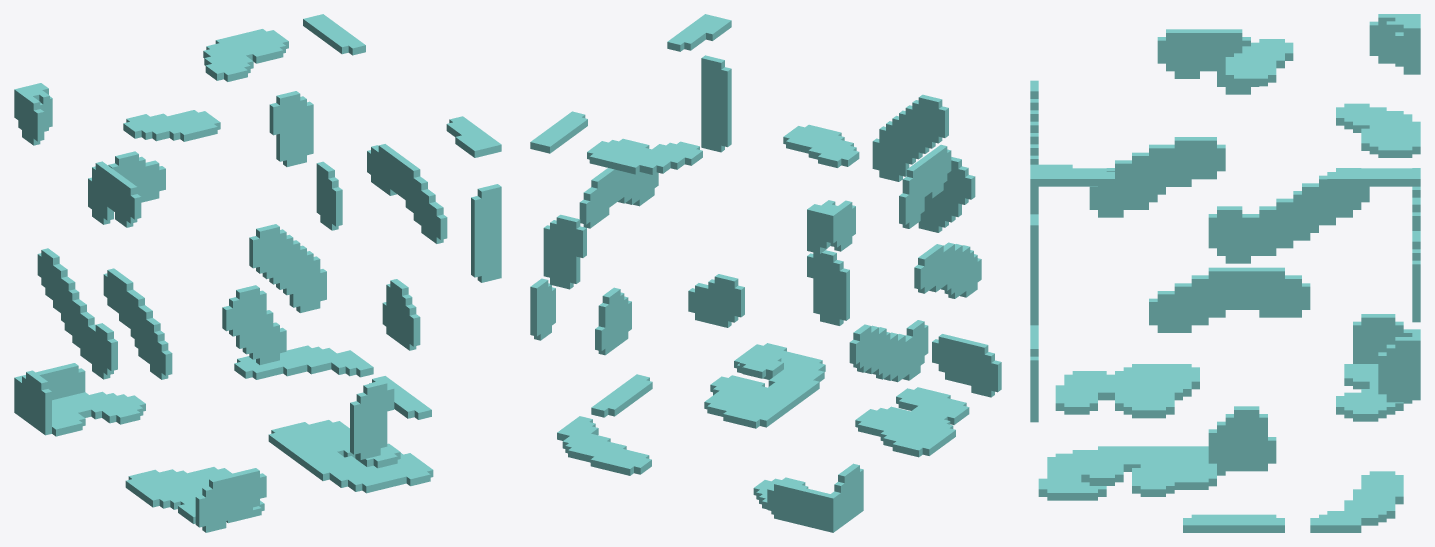
Rendered from planet_little-1.obj.
The picture shows the model from 3 angles, left to right: view 1: azimuth 30°, elevation 25°; view 2: azimuth 150°, elevation 25°; view 3: azimuth 270°, elevation 25°; orthographic projection. The views are drawn at different scales.
Bounding box in the file's own units: 4.6 × 4.6 × 4.6.
1 material, 1 textured.
